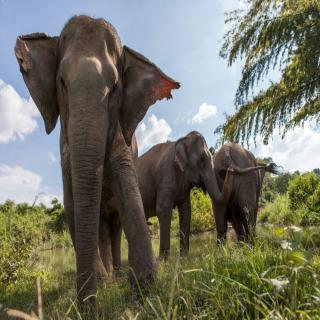Elephant: (13, 8, 184, 316), (130, 125, 236, 256), (212, 134, 285, 254)
